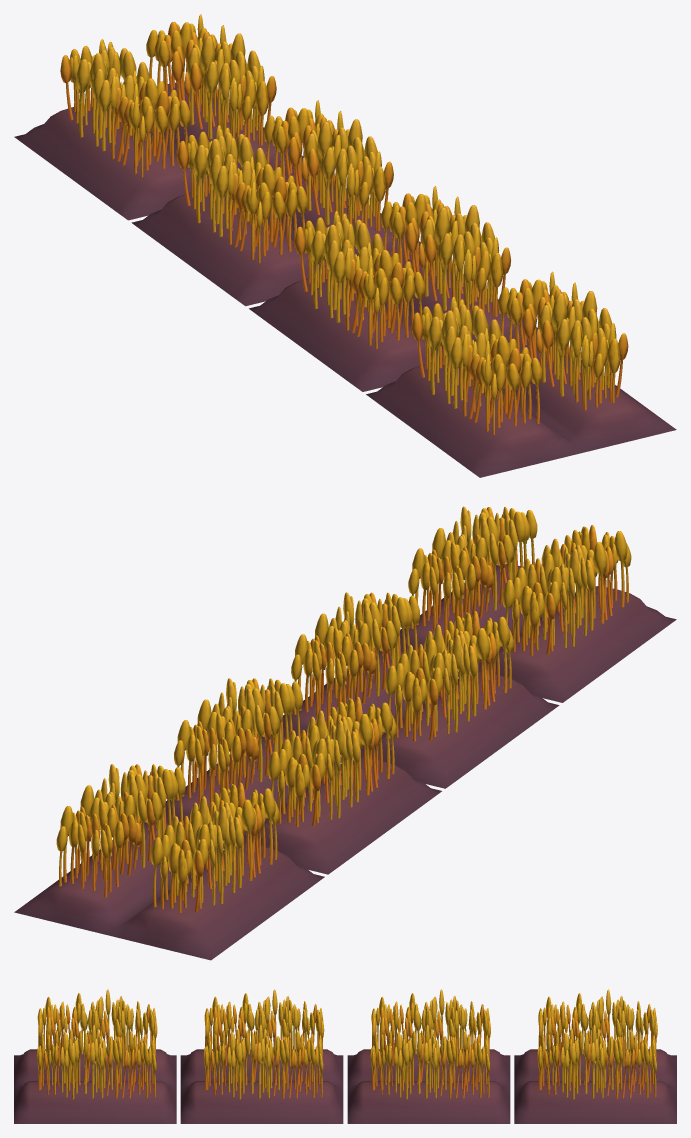
Rendered from village_long_wheat_4.gltf.
The picture shows the model from 3 angles, top to bottom: view 1: azimuth 30°, elevation 25°; view 2: azimuth 150°, elevation 25°; view 3: azimuth 270°, elevation 25°; orthographic projection. The views are drawn at different scales.
Visible parts, largest first — view 1: Farm_Wheat.013_Material.005_0, Farm_Wheat.015_Material.005_0, Farm_Wheat.014_Material.005_0, Farm_Wheat.016_Material.005_0; view 2: Farm_Wheat.016_Material.005_0, Farm_Wheat.013_Material.005_0, Farm_Wheat.015_Material.005_0, Farm_Wheat.014_Material.005_0; view 3: Farm_Wheat.014_Material.005_0 (×2), Farm_Wheat.013_Material.005_0 (×2), Farm_Wheat.015_Material.005_0, Farm_Wheat.016_Material.005_0.
Part boxes in pixels (<box>): Farm_Wheat.013_Material.005_0: <box>366,339,676,477</box>; Farm_Wheat.015_Material.005_0: <box>131,167,420,306</box>; Farm_Wheat.014_Material.005_0: <box>249,253,537,391</box>; Farm_Wheat.016_Material.005_0: <box>14,82,303,220</box>; Farm_Wheat.016_Material.005_0: <box>14,821,324,960</box>; Farm_Wheat.013_Material.005_0: <box>379,564,676,702</box>; Farm_Wheat.015_Material.005_0: <box>145,735,441,874</box>; Farm_Wheat.014_Material.005_0: <box>271,650,559,788</box>; Farm_Wheat.014_Material.005_0 (×2): <box>180,1039,343,1123</box>; Farm_Wheat.013_Material.005_0 (×2): <box>14,1039,176,1123</box>; Farm_Wheat.015_Material.005_0: <box>347,1049,510,1123</box>; Farm_Wheat.016_Material.005_0: <box>514,1049,676,1123</box>.
Bounding box in the file's own units: 0.9957 × 0.5331 × 4.08.
1 material, 1 textured.
